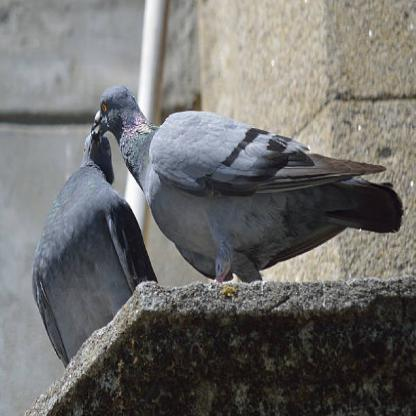Flying Rat: (93, 79, 362, 277), (24, 125, 150, 361)
